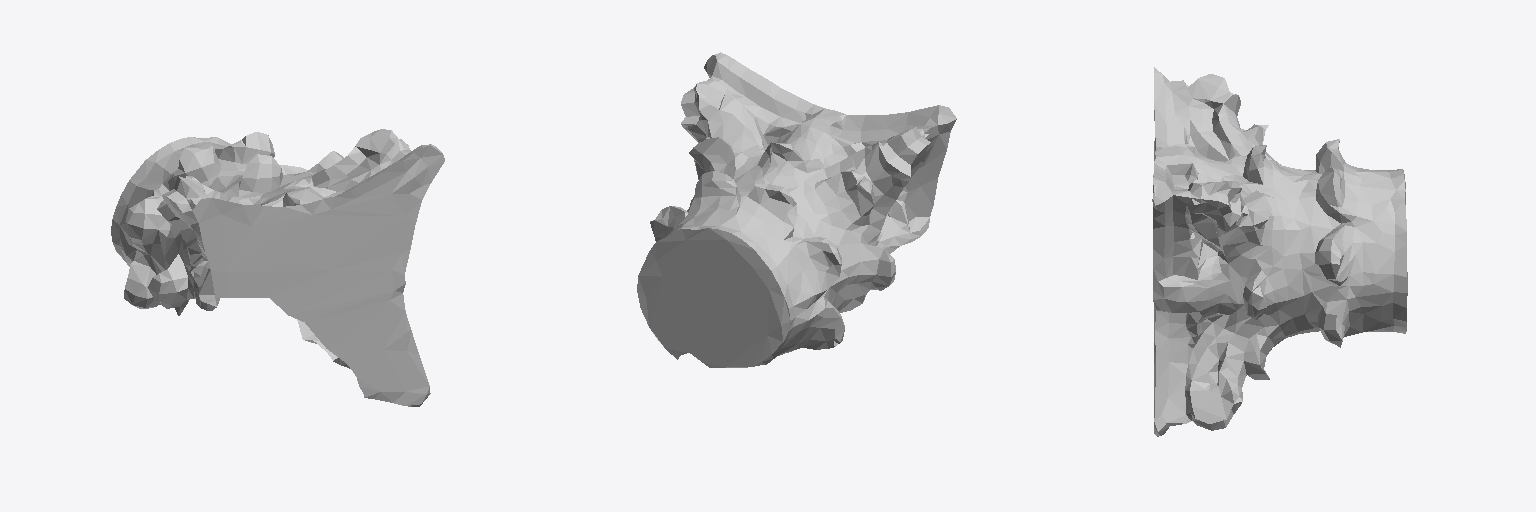
3 views of the same model, side by side, from view 1: azimuth 30°, elevation 25°; view 2: azimuth 150°, elevation 25°; view 3: azimuth 270°, elevation 25° (orthographic).
Parts seen in each view (by area): view 1: SF106; view 2: SF106; view 3: SF106.
Boxes of the visible parts, <box> form: SF106: <box>111,129,444,406</box>; SF106: <box>637,52,956,367</box>; SF106: <box>1152,67,1407,436</box>.
Bounding box in the file's own units: 0.9668 × 0.9601 × 0.8456.